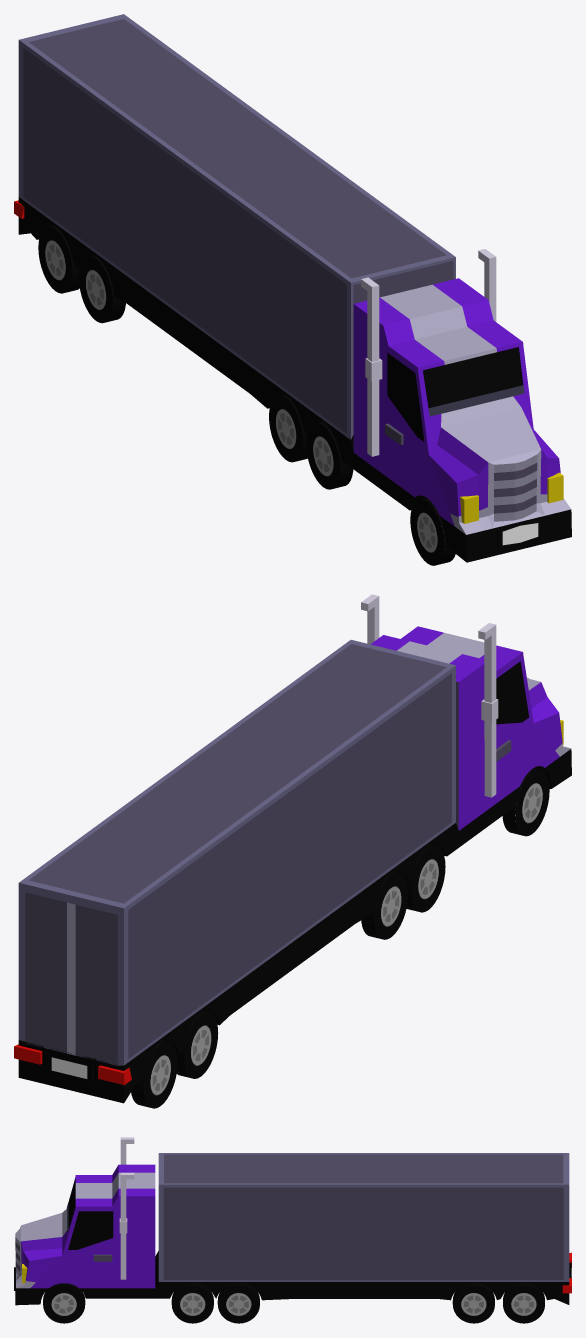
The model's file is Truk_2_Ungu_D.fbx.
The picture shows the model from 3 angles, top to bottom: view 1: azimuth 30°, elevation 25°; view 2: azimuth 150°, elevation 25°; view 3: azimuth 270°, elevation 25°; orthographic projection. The views are drawn at different scales.
Parts seen in each view (by area): view 1: Mobil6.005; view 2: Mobil6.005; view 3: Mobil6.005.
Part boxes in pixels (box(x1,y1,x2,y2)): Mobil6.005: box(14, 14, 571, 565); Mobil6.005: box(14, 594, 571, 1108); Mobil6.005: box(14, 1137, 571, 1323).
Bounding box in the file's own units: 482 × 891 × 2973.
6 materials, 4 textured.
